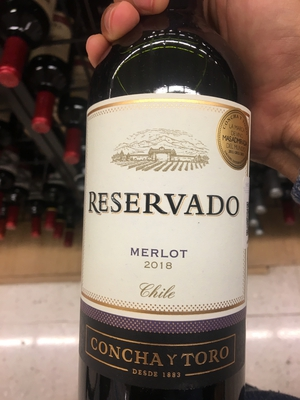reservado merlot: (60, 20, 255, 400)
